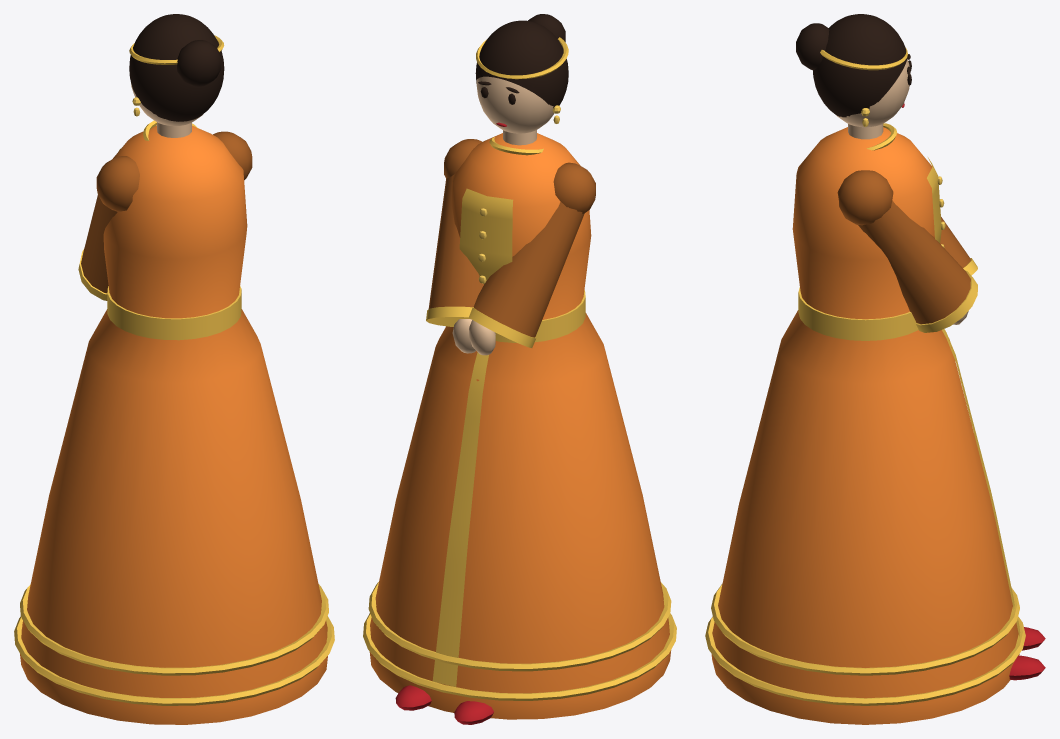
File: Avatar.fbx
3 views of the same model, side by side, from view 1: azimuth 30°, elevation 25°; view 2: azimuth 150°, elevation 25°; view 3: azimuth 270°, elevation 25° (orthographic). The views are drawn at different scales.
Visible parts, largest first — view 1: Avatar; view 2: Avatar; view 3: Avatar.
Part boxes in pixels (x1,y1,x2,y2): Avatar: (14, 14, 334, 724); Avatar: (363, 14, 676, 724); Avatar: (705, 14, 1045, 724).
Size of the model in its own units: 0.8365 by 1.86 by 0.8882.
